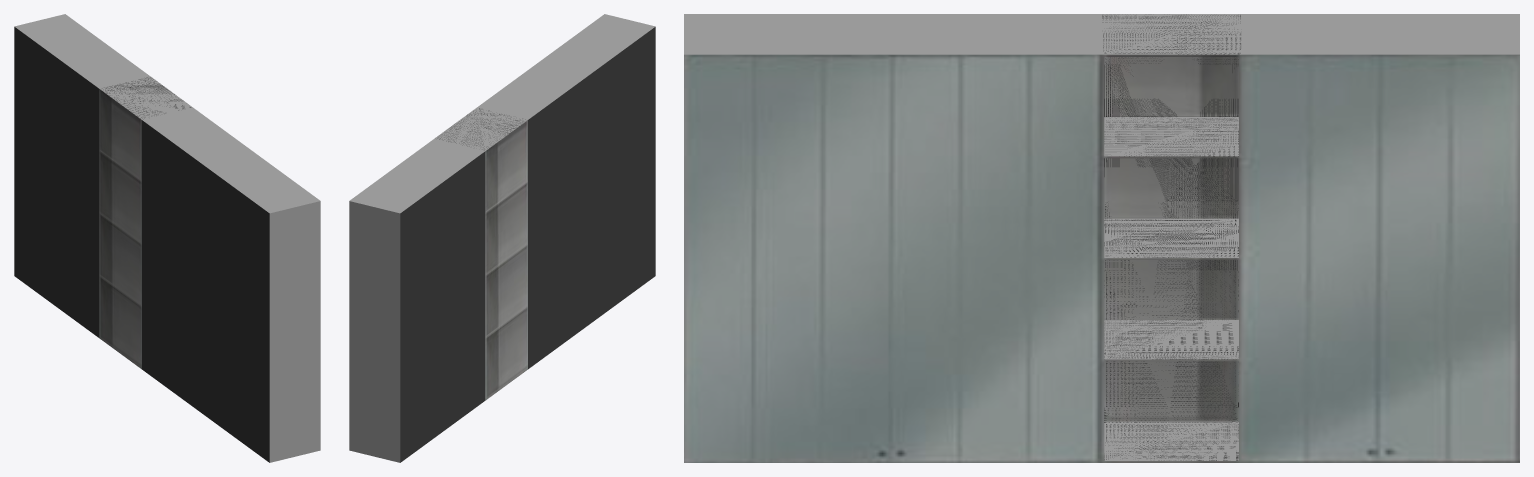
Rendered from cabinet.dae.
The picture shows the model from 3 angles, left to right: view 1: azimuth 30°, elevation 25°; view 2: azimuth 150°, elevation 25°; view 3: azimuth 270°, elevation 25°; orthographic projection. The views are drawn at different scales.
Visible parts, largest first — view 1: Component_1 (×6); view 2: Component_1 (×6); view 3: Component_1 (×11).
Part boxes in pixels (x1,y1,x2,y2): Component_1 (×6): [14, 14, 320, 462]; Component_1 (×6): [349, 14, 655, 462]; Component_1 (×11): [684, 14, 1519, 462].
Size of the model in its own units: 8.19 by 70.87 by 38.19.
Materials: 3 (1 with a texture image).
